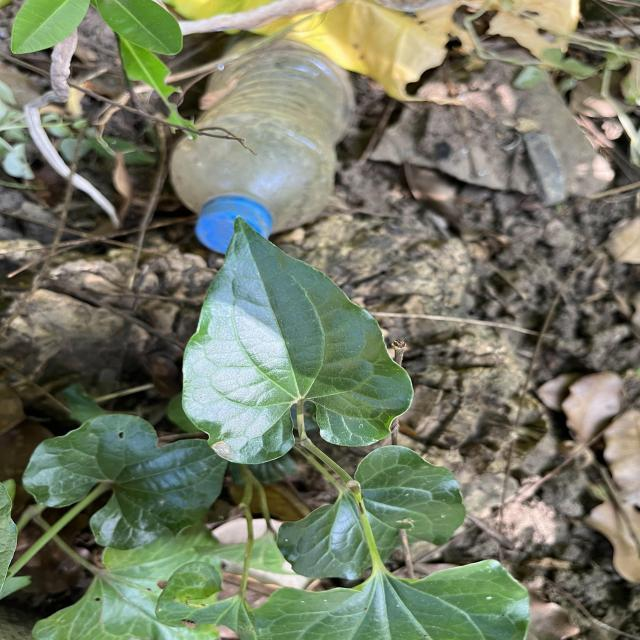Piper longum: (179, 213, 417, 467)
